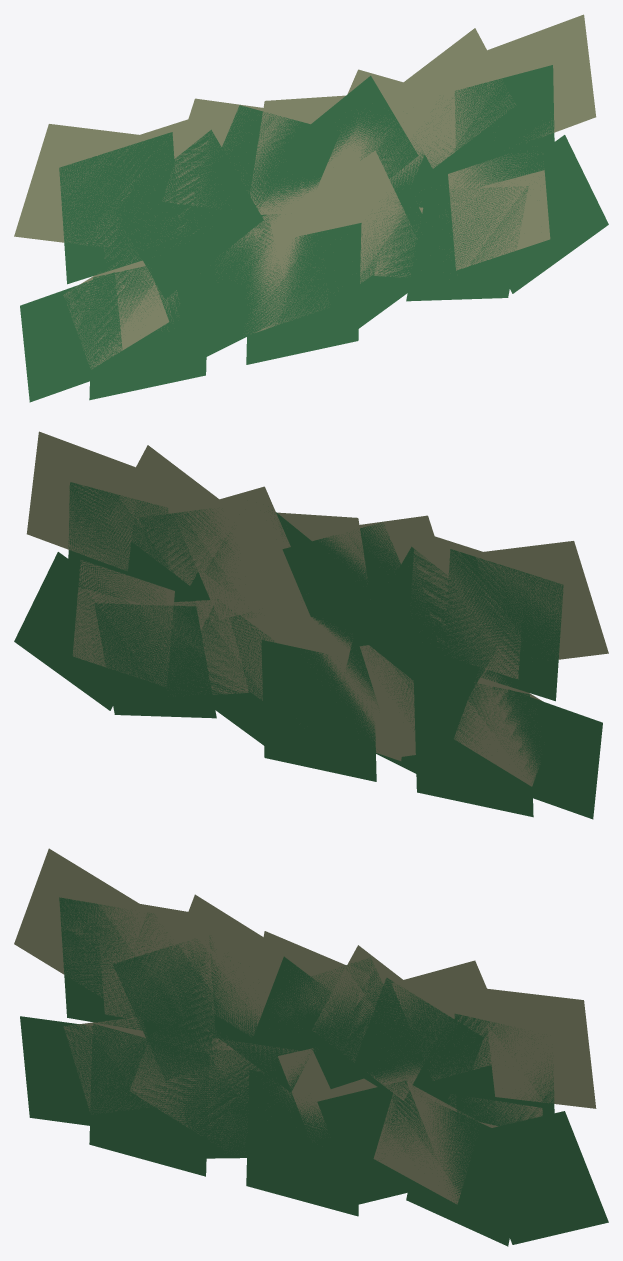
The model's file is ivy.glb.
The picture shows the model from 3 angles, top to bottom: view 1: azimuth 30°, elevation 25°; view 2: azimuth 150°, elevation 25°; view 3: azimuth 330°, elevation 25°; orthographic projection.
Parts seen in each view (by area): view 1: ivy; view 2: ivy; view 3: ivy.
Boxes of the visible parts, box(x1,y1,x2,y2) form: ivy: box(14, 14, 608, 402); ivy: box(14, 431, 608, 819); ivy: box(14, 848, 608, 1246).
Size of the model in its own units: 2.44 by 1.15 by 0.
